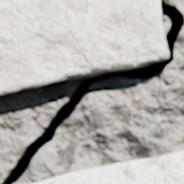brick: (0, 0, 167, 95)
broken_brick: (30, 150, 183, 183)
crack: (0, 0, 183, 183)
